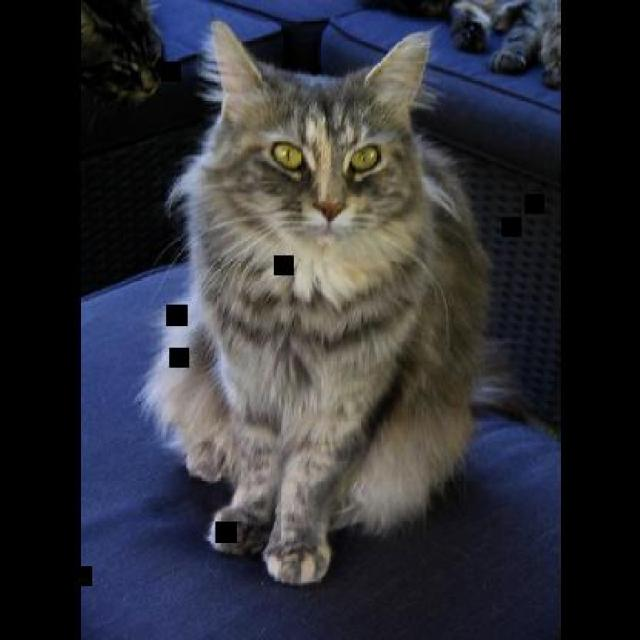unauthorized: (134, 16, 555, 586), (352, 0, 560, 88), (77, 0, 165, 111)
